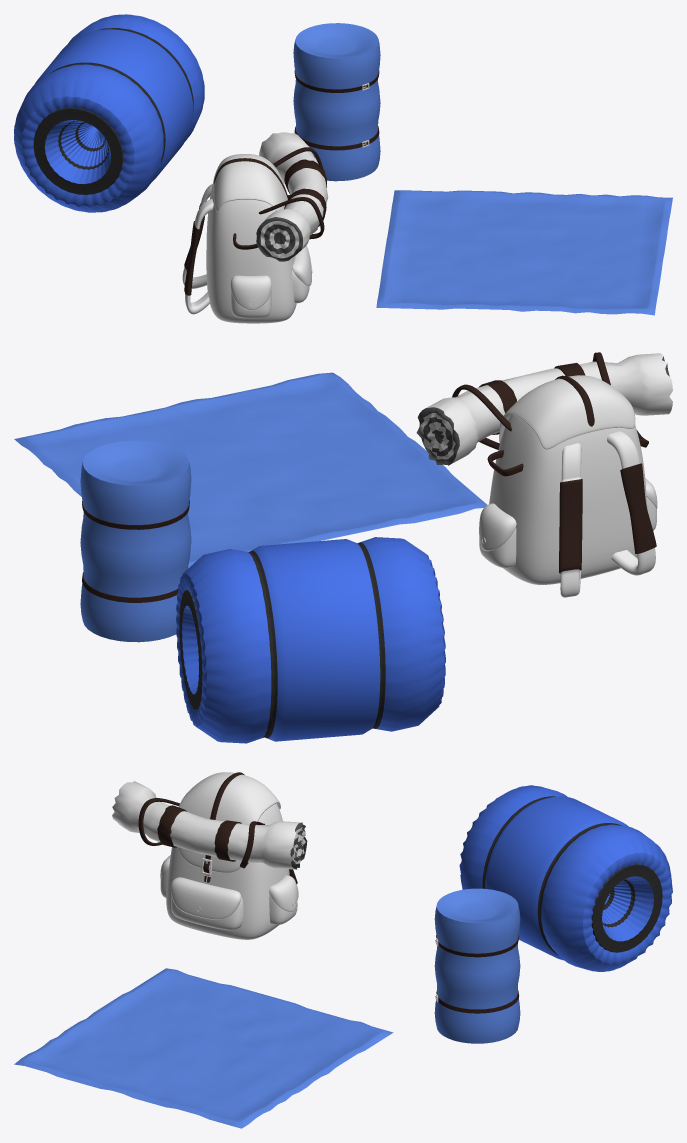
Rendered from BackPackAssets.fbx.
The picture shows the model from 3 angles, top to bottom: view 1: azimuth 30°, elevation 25°; view 2: azimuth 150°, elevation 25°; view 3: azimuth 270°, elevation 25°; orthographic projection. The views are drawn at different scales.
Parts seen in each view (by area): view 1: Tarp, TentRolled_1, BackPack, TentRolled_2, RolledTentBag; view 2: TentRolled_1, Tarp, BackPack, TentRolled_2, RolledTentBag; view 3: Tarp, TentRolled_1, BackPack, TentRolled_2, RolledTentBag.
Boxes of the visible parts, <box> form: Tarp: <box>376,190,672,315</box>; TentRolled_1: <box>14,14,204,212</box>; BackPack: <box>182,154,312,323</box>; TentRolled_2: <box>293,23,380,181</box>; RolledTentBag: <box>256,132,328,261</box>; TentRolled_1: <box>176,537,445,743</box>; Tarp: <box>14,372,486,568</box>; BackPack: <box>479,375,657,597</box>; TentRolled_2: <box>80,440,191,642</box>; RolledTentBag: <box>416,352,672,465</box>; Tarp: <box>14,968,393,1128</box>; TentRolled_1: <box>459,785,672,971</box>; BackPack: <box>160,772,298,939</box>; TentRolled_2: <box>434,888,520,1043</box>; RolledTentBag: <box>112,781,307,869</box>.
Size of the model in its own units: 862 by 263 by 1012.
